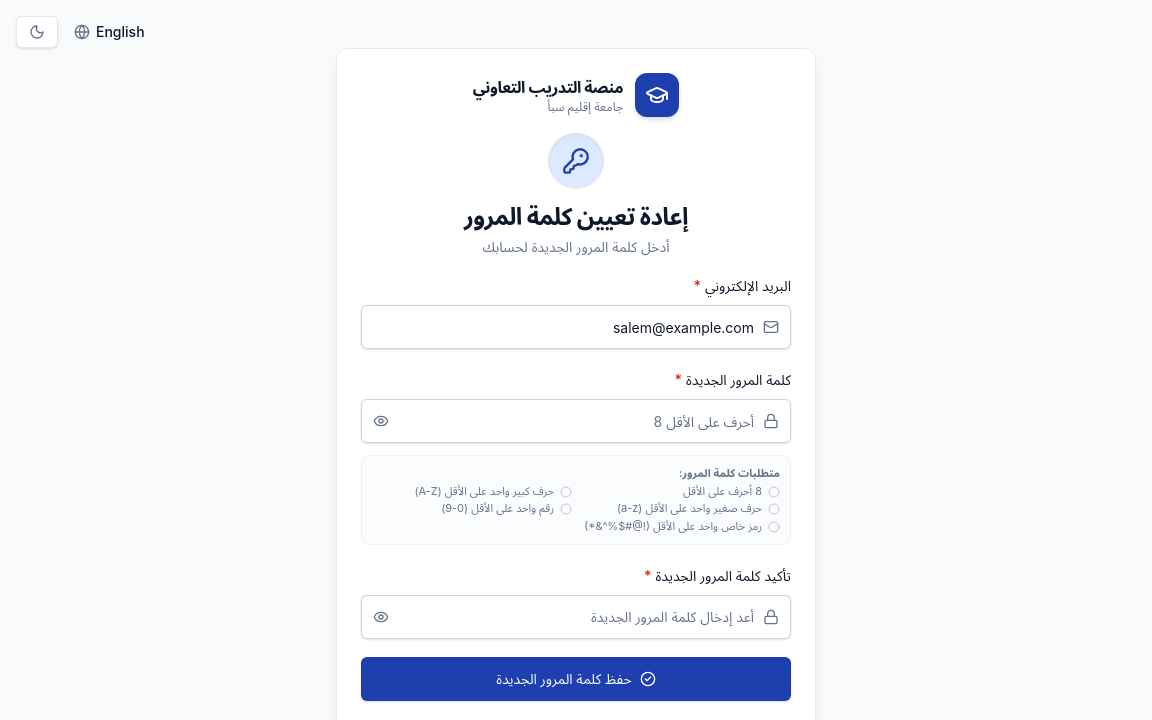
Test: ResetPasswordPage Component (TEP-581) › toggles language when language button is clicked
The width and height of the screenshot is (1152, 720).
What coordinates should you click on to do the following:
click the button "English"
I would click on:
 (109, 32)
Its box is x1=66 y1=18 x2=153 y2=46.
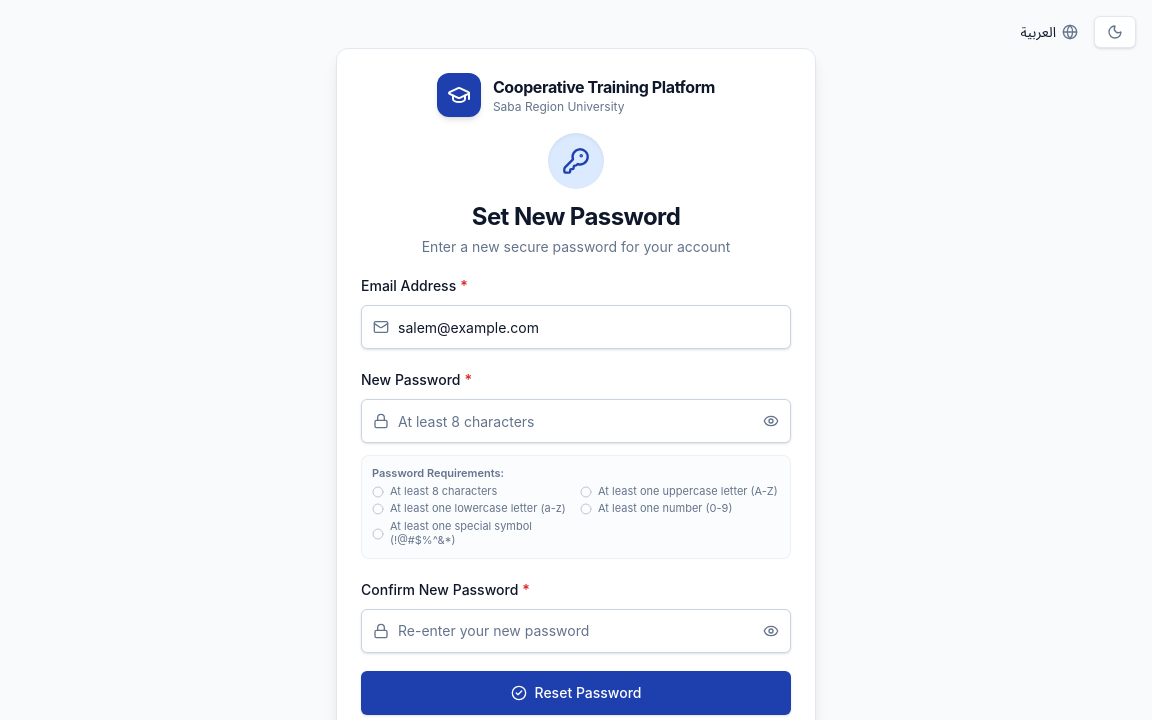
Expected: the field labelled "Email Address*" holds "salem@example.com", x1=361 y1=305 x2=791 y2=349
Now the heading "Set New Password" is shown, box x1=472 y1=202 x2=680 y2=231
Now the button "Reset Password" is shown, box x1=361 y1=671 x2=791 y2=715
